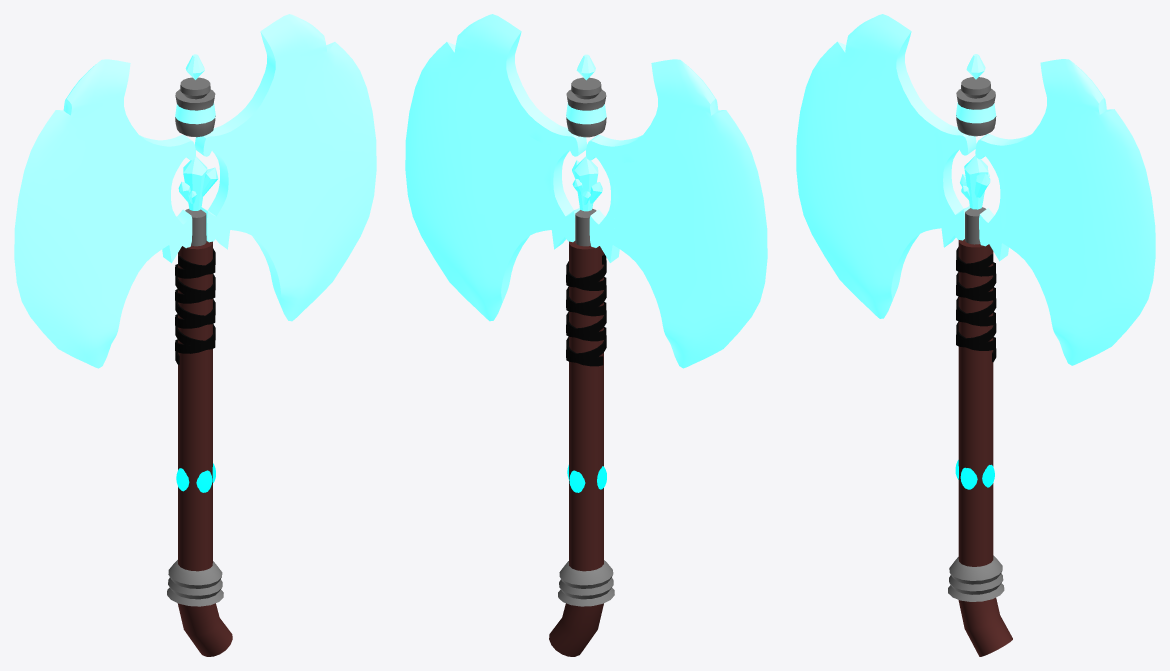
File: Boar_Axe_-_Astral.fbx
3 views of the same model, side by side, from view 1: azimuth 30°, elevation 25°; view 2: azimuth 150°, elevation 25°; view 3: azimuth 330°, elevation 25° (orthographic).
Parts seen in each view (by area): view 1: Axe V2 Blade - Backup, Cylinder.002; view 2: Axe V2 Blade - Backup, Cylinder.002; view 3: Axe V2 Blade - Backup, Cylinder.002.
Boxes of the visible parts, left/top/right/bottom form: Axe V2 Blade - Backup: left=14, top=14, right=376, bottom=368; Cylinder.002: left=167, top=54, right=232, bottom=656; Axe V2 Blade - Backup: left=405, top=14, right=767, bottom=368; Cylinder.002: left=549, top=54, right=614, bottom=656; Axe V2 Blade - Backup: left=796, top=14, right=1155, bottom=365; Cylinder.002: left=948, top=54, right=1012, bottom=656.
Bounding box in the file's own units: 160 × 262 × 23.63.
